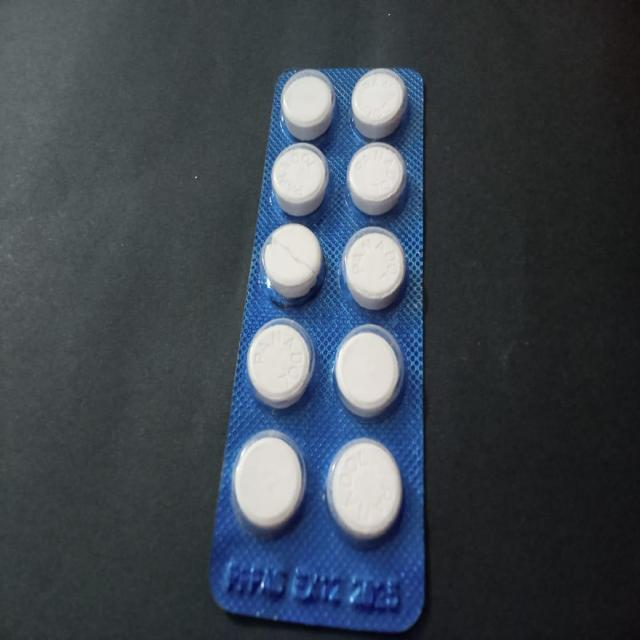defect: (257, 221, 328, 310)
